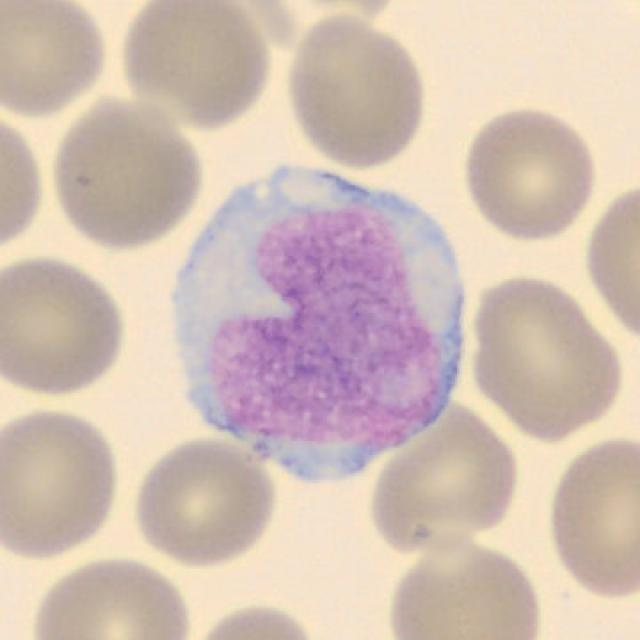Monocito: (172, 167, 466, 485)
